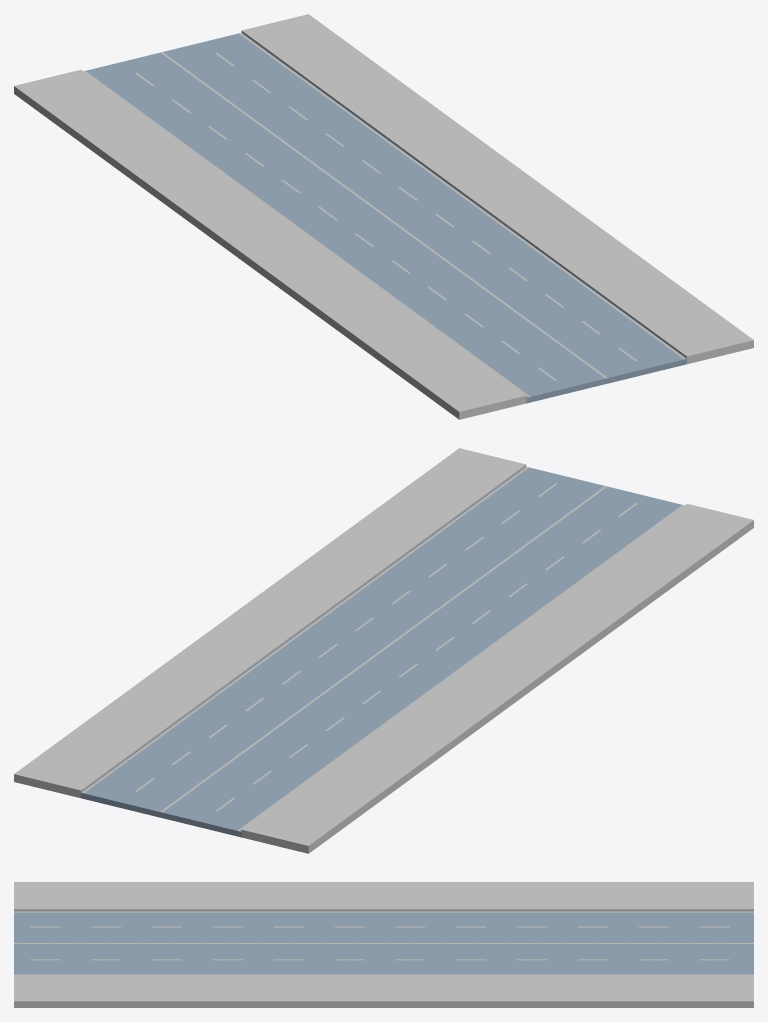
File: Road_018.fbx
3 views of the same model, one above another, from view 1: azimuth 30°, elevation 25°; view 2: azimuth 150°, elevation 25°; view 3: azimuth 270°, elevation 25° (orthographic). The views are drawn at different scales.
Visible parts, largest first — view 1: Road_018; view 2: Road_018; view 3: Road_018.
Boxes of the visible parts, box(x1,y1,x2,y2) form: Road_018: box(14, 14, 753, 419); Road_018: box(14, 448, 753, 853); Road_018: box(14, 882, 753, 1007).
Bounding box in the file's own units: 2202 × 56.17 × 5765.
